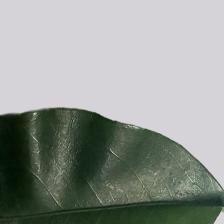healthy: (2, 113, 224, 224)
